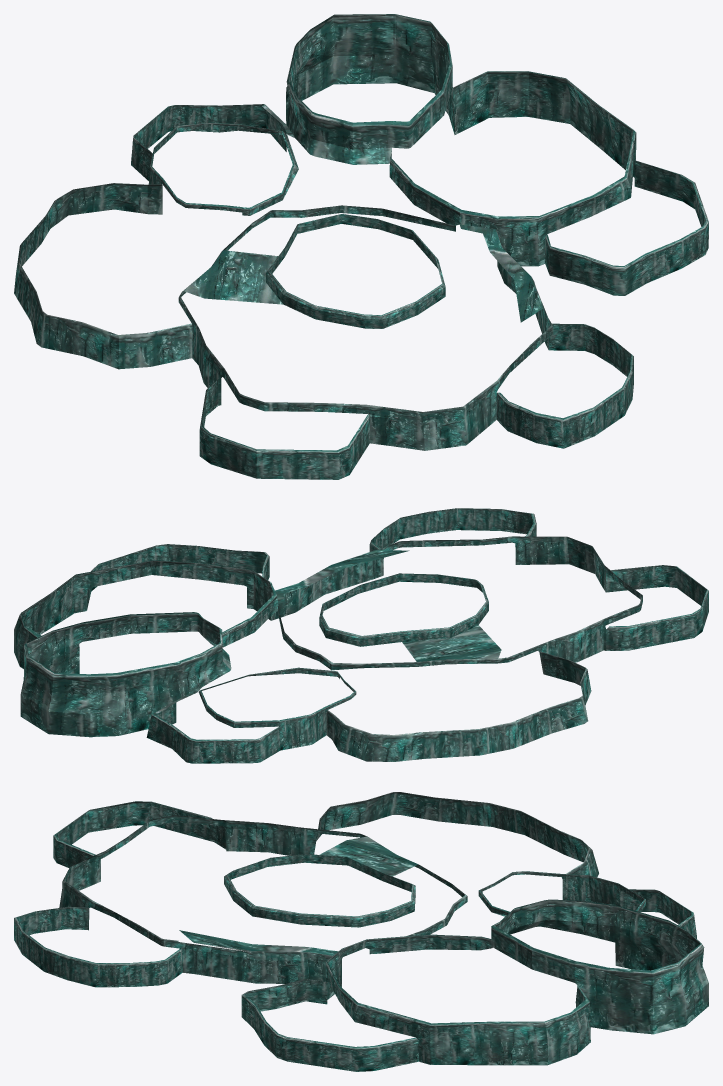
Rendered from site_11.glb.
3 renders of one model, top to bottom at view 1: azimuth 30°, elevation 25°; view 2: azimuth 150°, elevation 25°; view 3: azimuth 270°, elevation 25°, orthographic. The views are drawn at different scales.
Parts seen in each view (by area): view 1: CHR_1B.202_mat_74.003_0; view 2: CHR_1B.202_mat_74.003_0; view 3: CHR_1B.202_mat_74.003_0.
Part boxes in pixels (x1,y1,x2,y2): CHR_1B.202_mat_74.003_0: [14, 14, 708, 479]; CHR_1B.202_mat_74.003_0: [14, 508, 708, 763]; CHR_1B.202_mat_74.003_0: [14, 792, 708, 1071].
Bounding box in the file's own units: 129 × 16.82 × 148.
Materials: 1 (1 with a texture image).
